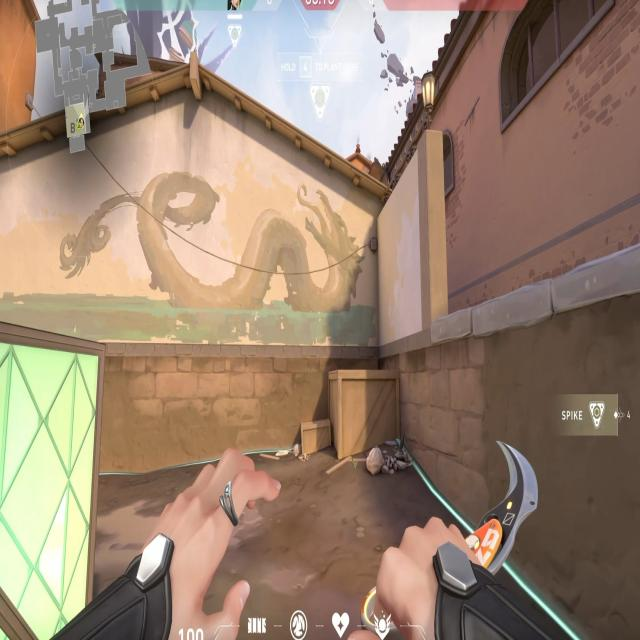Throwables: (489, 0, 637, 132)
